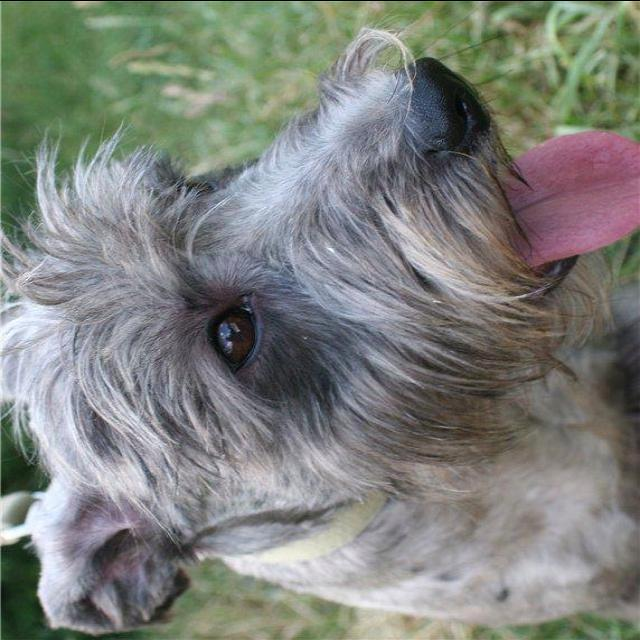standard_schnauzer: (0, 29, 638, 638)
